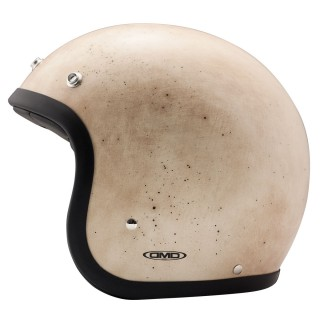with_helmet: (5, 20, 310, 299)
